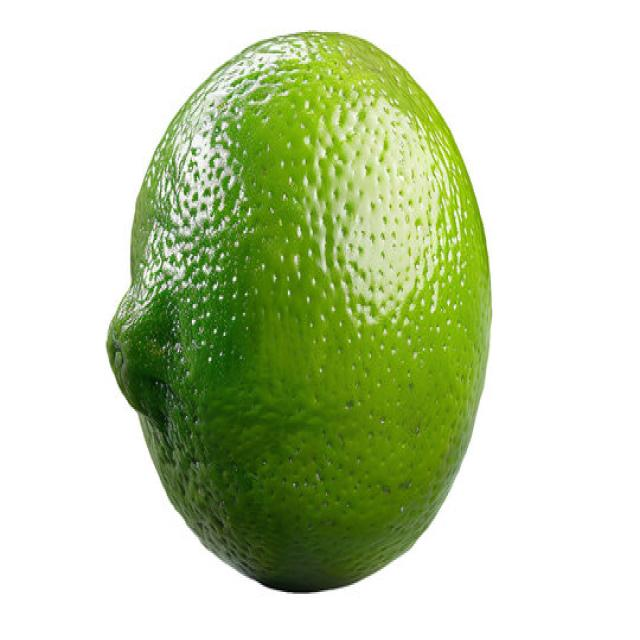Lemon: (104, 28, 493, 594)
